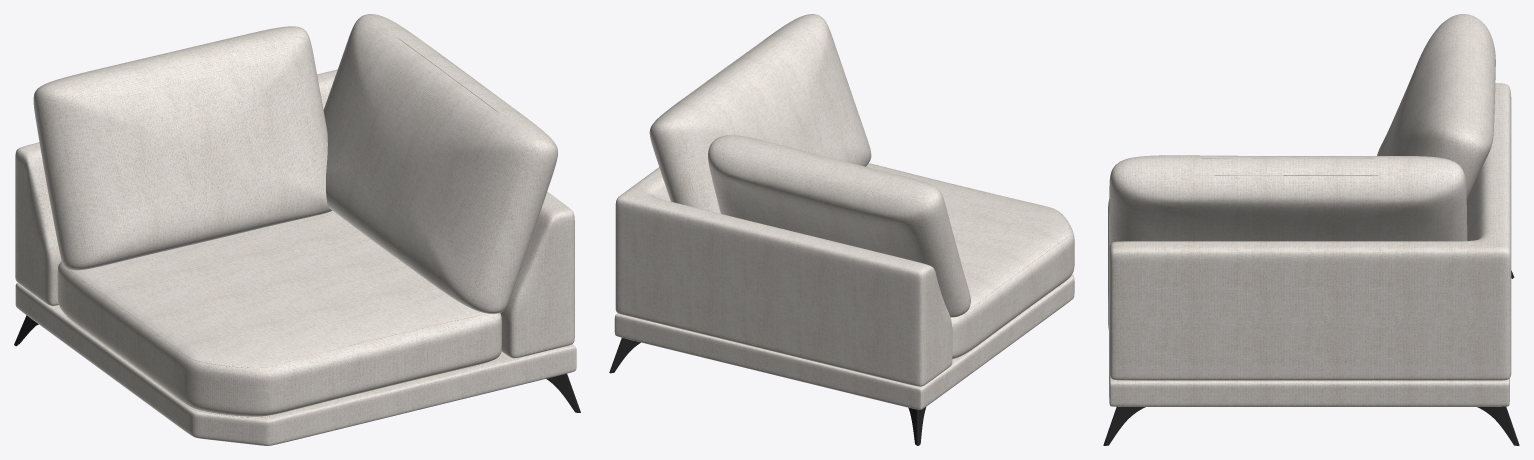
The model's file is corner.glb.
3 renders of one model, left to right at view 1: azimuth 30°, elevation 25°; view 2: azimuth 150°, elevation 25°; view 3: azimuth 270°, elevation 25°, orthographic. The views are drawn at different scales.
Visible parts, largest first — view 1: object 6, object 4, object 5, estrutura angulo, object 9; view 2: object 9, object 5, object 4, object 6, estrutura angulo; view 3: object 9, object 5, object 4, estrutura angulo, pe (×2).
Boxes of the visible parts, x1,y1,x2,y2 form: object 6: (57,210,501,416); object 4: (33,26,331,270); object 5: (323,14,557,313); estrutura angulo: (15,283,576,445); object 9: (15,69,574,358); object 9: (615,167,952,386); object 5: (649,14,871,213); object 4: (708,135,970,317); object 6: (866,163,1074,358); estrutura angulo: (614,274,1074,409); object 9: (1109,83,1511,380); object 5: (1109,155,1467,249); object 4: (1377,14,1495,199); estrutura angulo: (1109,372,1509,406); pe (×2): (1103,406,1519,445).
Size of the model in its own units: 1.13 by 0.8329 by 1.16.
Materials: 2 (1 with a texture image).
